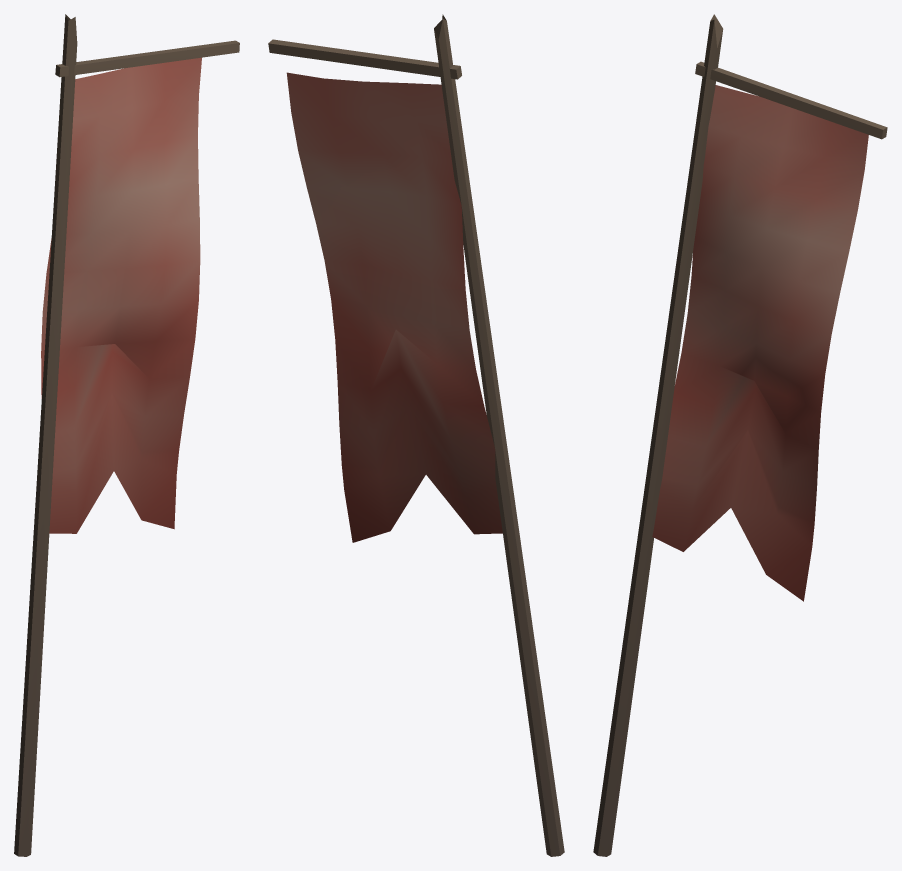
Rendered from banner_torn.glb.
3 views of the same model, side by side, from view 1: azimuth 30°, elevation 25°; view 2: azimuth 150°, elevation 25°; view 3: azimuth 330°, elevation 25° (orthographic). The views are drawn at different scales.
Parts seen in each view (by area): view 1: cloth, pole; view 2: cloth, pole; view 3: cloth, pole.
Part boxes in pixels (x1=…): cloth: x1=41, y1=57, x2=201, y2=533; pole: x1=14, y1=14, x2=239, y2=856; cloth: x1=286, y1=72, x2=502, y2=542; pole: x1=268, y1=14, x2=564, y2=856; cloth: x1=652, y1=85, x2=868, y2=601; pole: x1=593, y1=14, x2=887, y2=856.
Bounding box in the file's own units: 0.8622 × 2.64 × 0.2585.
